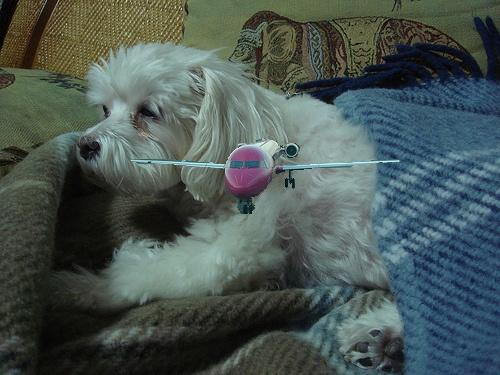tampered: (132, 139, 400, 214)
